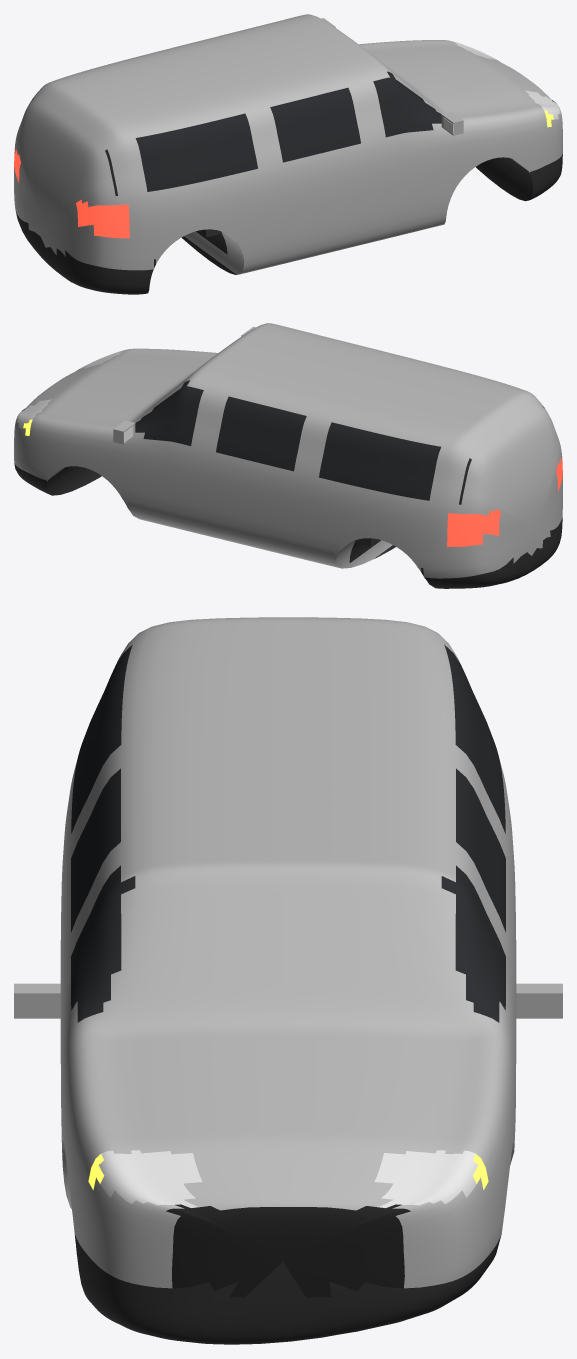
Rendered from SM_VB_Car_SUV.fbx.
3 views of the same model, one above another, from view 1: azimuth 30°, elevation 25°; view 2: azimuth 150°, elevation 25°; view 3: azimuth 270°, elevation 25° (orthographic). The views are drawn at different scales.
Parts seen in each view (by area): view 1: SM_VB_Car_SUV; view 2: SM_VB_Car_SUV; view 3: SM_VB_Car_SUV.
Boxes of the visible parts, x1=… form: SM_VB_Car_SUV: x1=14, y1=14, x2=562, y2=294; SM_VB_Car_SUV: x1=14, y1=323, x2=562, y2=588; SM_VB_Car_SUV: x1=14, y1=617, x2=562, y2=1344.
Bounding box in the file's own units: 4.74 × 1.53 × 2.36.
